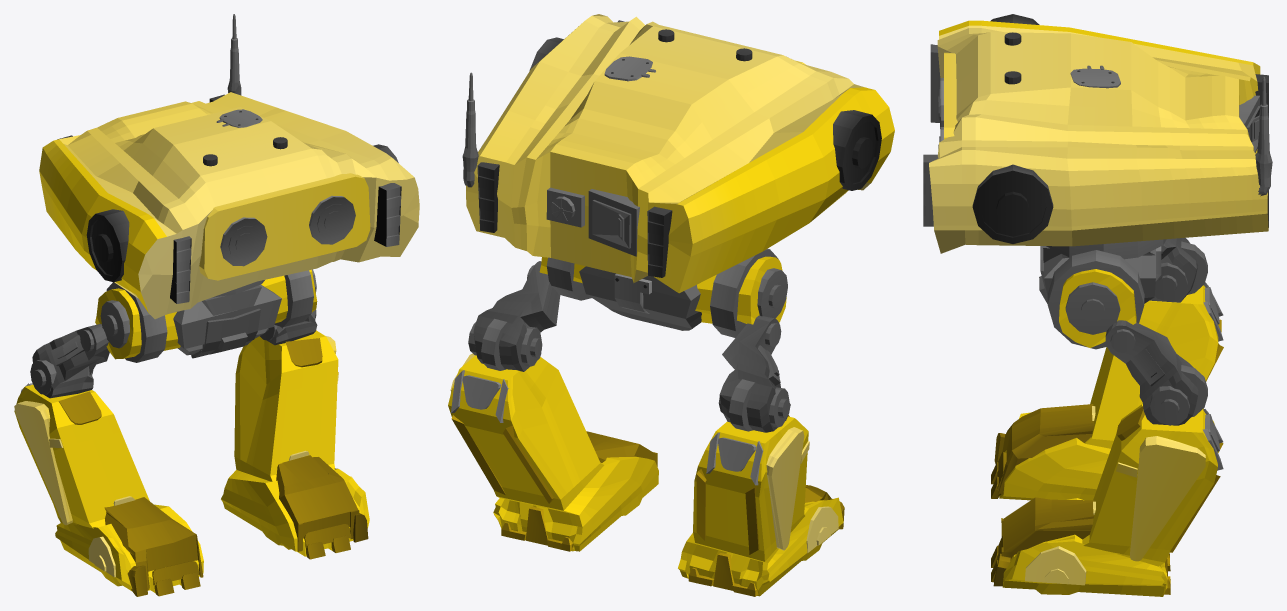
File: SK_Enemy_Kamikaze_02.fbx
3 renders of one model, left to right at view 1: azimuth 30°, elevation 25°; view 2: azimuth 150°, elevation 25°; view 3: azimuth 270°, elevation 25°, orthographic. The views are drawn at different scales.
Parts seen in each view (by area): view 1: SK_Enemy_Kamikaze_02; view 2: SK_Enemy_Kamikaze_02; view 3: SK_Enemy_Kamikaze_02.
Boxes of the visible parts, x1,y1,x2,y2 form: SK_Enemy_Kamikaze_02: (14, 14, 419, 596); SK_Enemy_Kamikaze_02: (448, 14, 894, 596); SK_Enemy_Kamikaze_02: (923, 14, 1272, 596).
Size of the model in its own units: 110 by 161 by 99.28.
